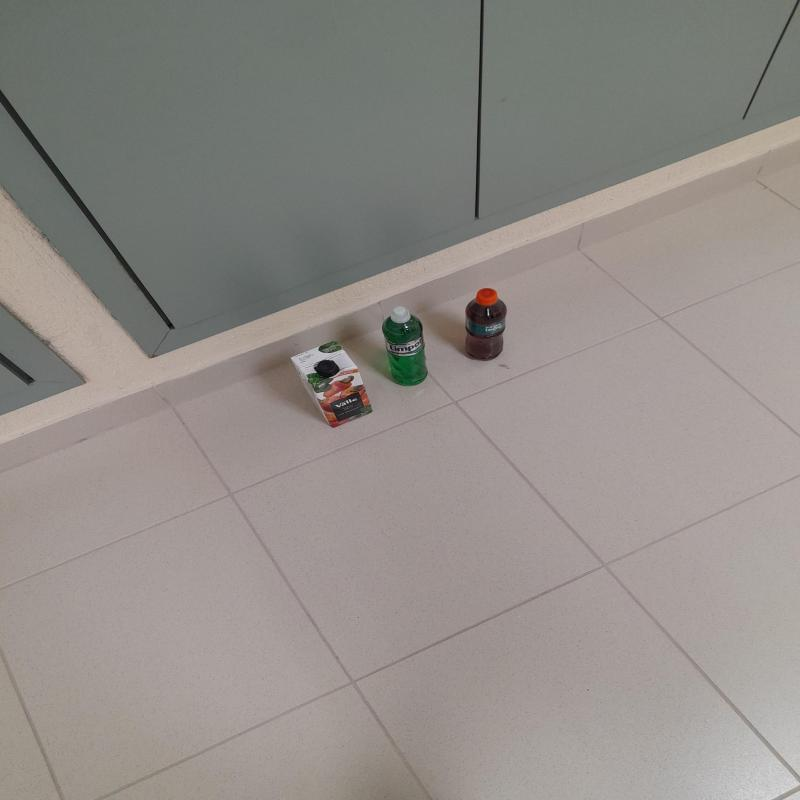Cleaner: (379, 310, 428, 389)
IceTea: (463, 288, 508, 362)
